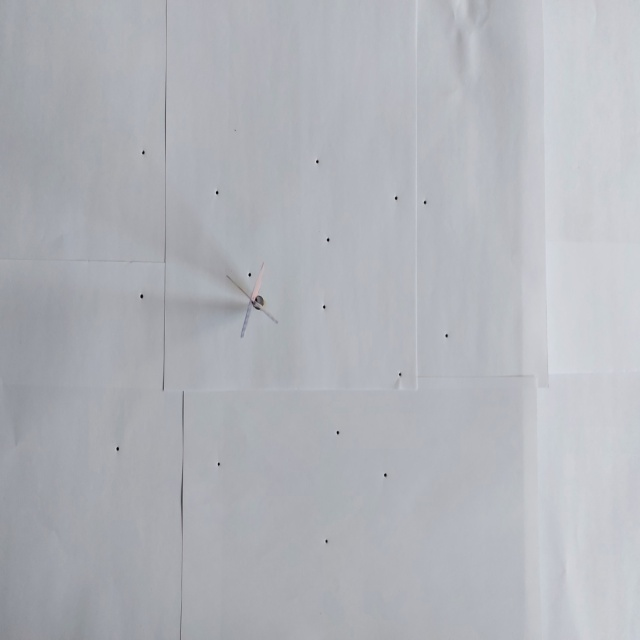Dart: (218, 260, 288, 340)
